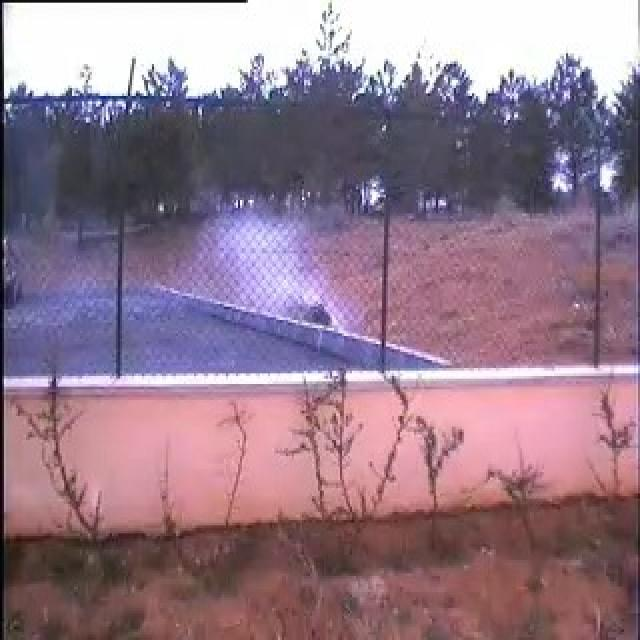smoke: (58, 200, 377, 364)
